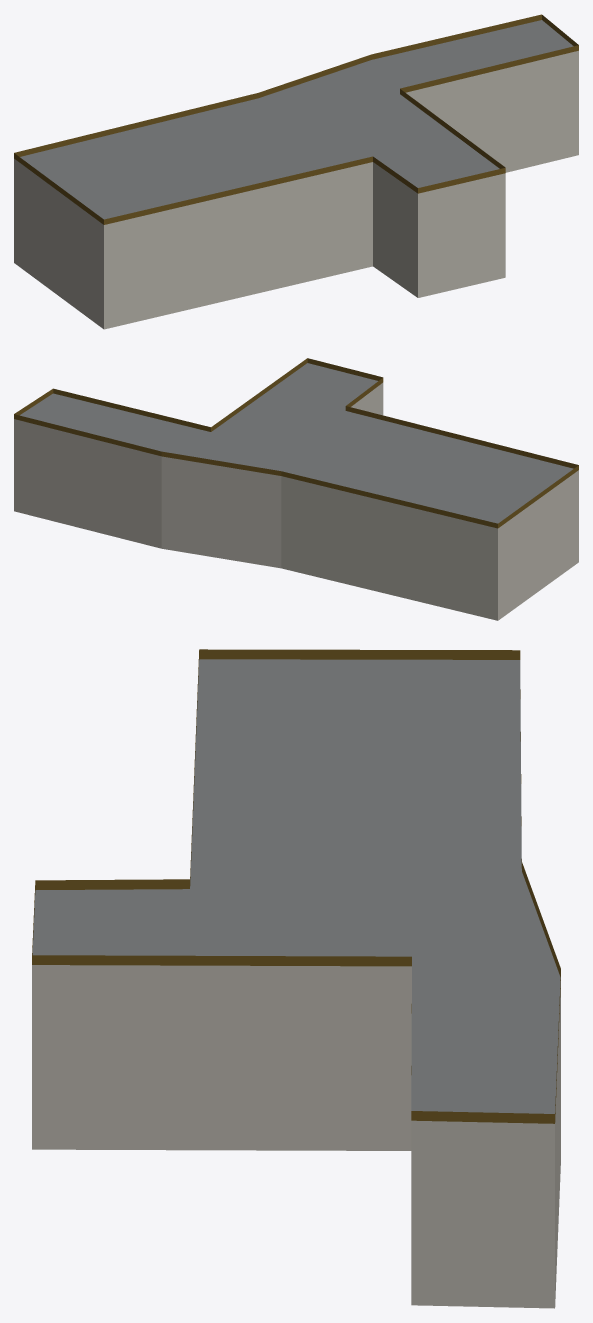
The model's file is hotel-furaya-lod1.glb.
3 views of the same model, one above another, from view 1: azimuth 30°, elevation 25°; view 2: azimuth 150°, elevation 25°; view 3: azimuth 270°, elevation 25° (orthographic). The views are drawn at different scales.
Visible parts, largest first — view 1: hotel-furaya_LOD1; view 2: hotel-furaya_LOD1; view 3: hotel-furaya_LOD1.
Boxes of the visible parts, <box> form: hotel-furaya_LOD1: <box>14,14,578,329</box>; hotel-furaya_LOD1: <box>14,358,578,620</box>; hotel-furaya_LOD1: <box>32,649,560,1308</box>.
Bounding box in the file's own units: 132 × 25.8 × 63.6.
